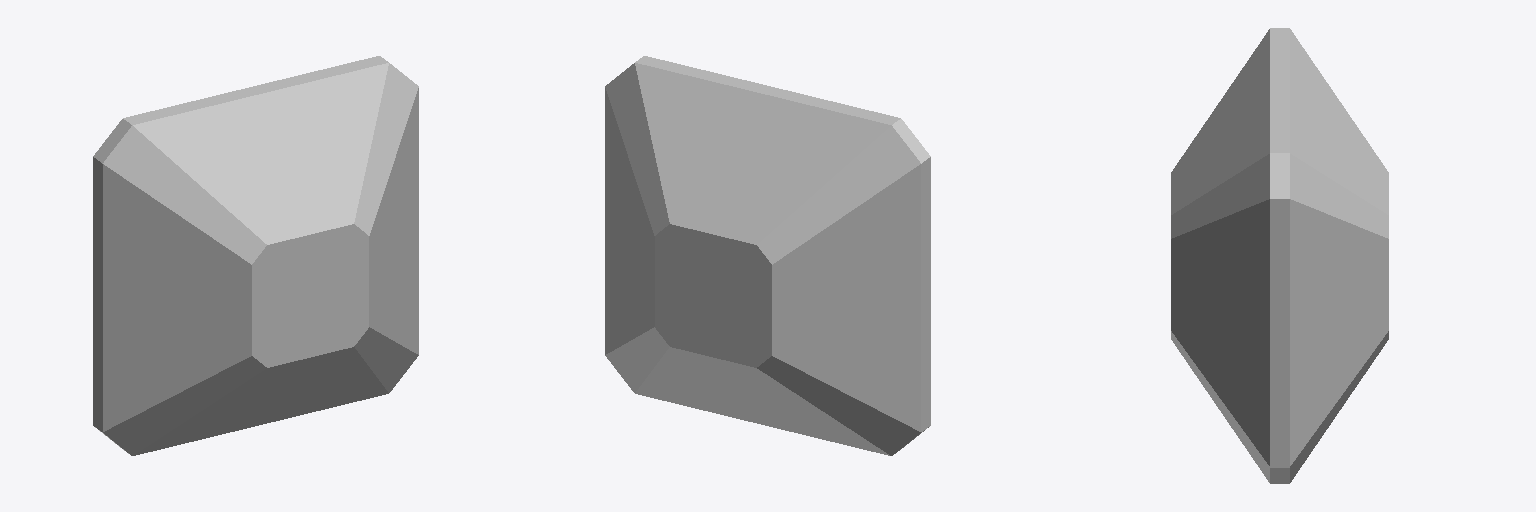
The model's file is primitive_gem_sapphire.obj.
The picture shows the model from 3 angles: view 1: azimuth 30°, elevation 25°; view 2: azimuth 150°, elevation 25°; view 3: azimuth 270°, elevation 25°; orthographic projection.
Parts seen in each view (by area): view 1: primitive_gem_sapphire group1; view 2: primitive_gem_sapphire group1; view 3: primitive_gem_sapphire group1.
Boxes of the visible parts, x1,y1,x2,y2 form: primitive_gem_sapphire group1: [93, 56, 418, 455]; primitive_gem_sapphire group1: [605, 56, 930, 455]; primitive_gem_sapphire group1: [1171, 28, 1388, 483].
Bounding box in the file's own units: 4.77 × 4.77 × 2.85.